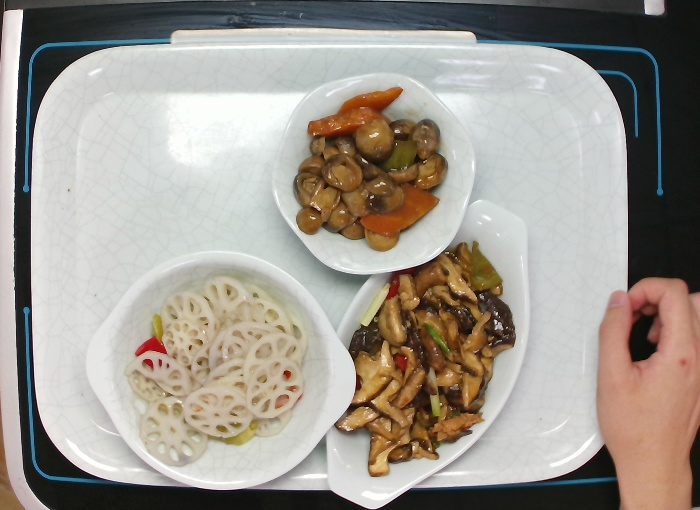JYsf-Shuang_Er_Wan: (80, 247, 360, 494)
JYsf-Yu_Pan: (323, 196, 535, 510)
WCQzf-Hua_Duo_Wan: (268, 68, 480, 276)
